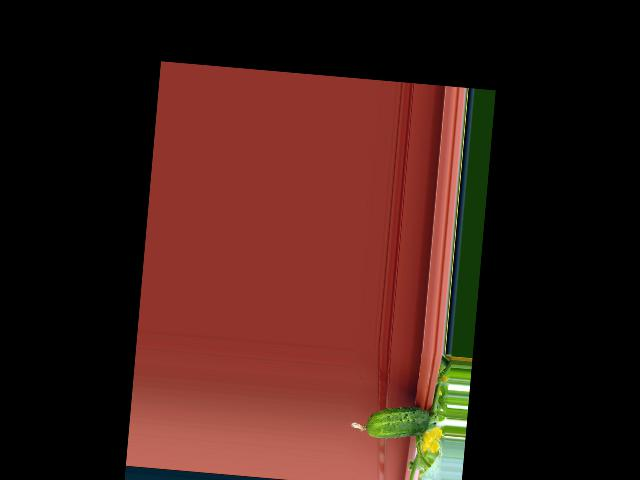cucumber: (349, 402, 431, 442)
